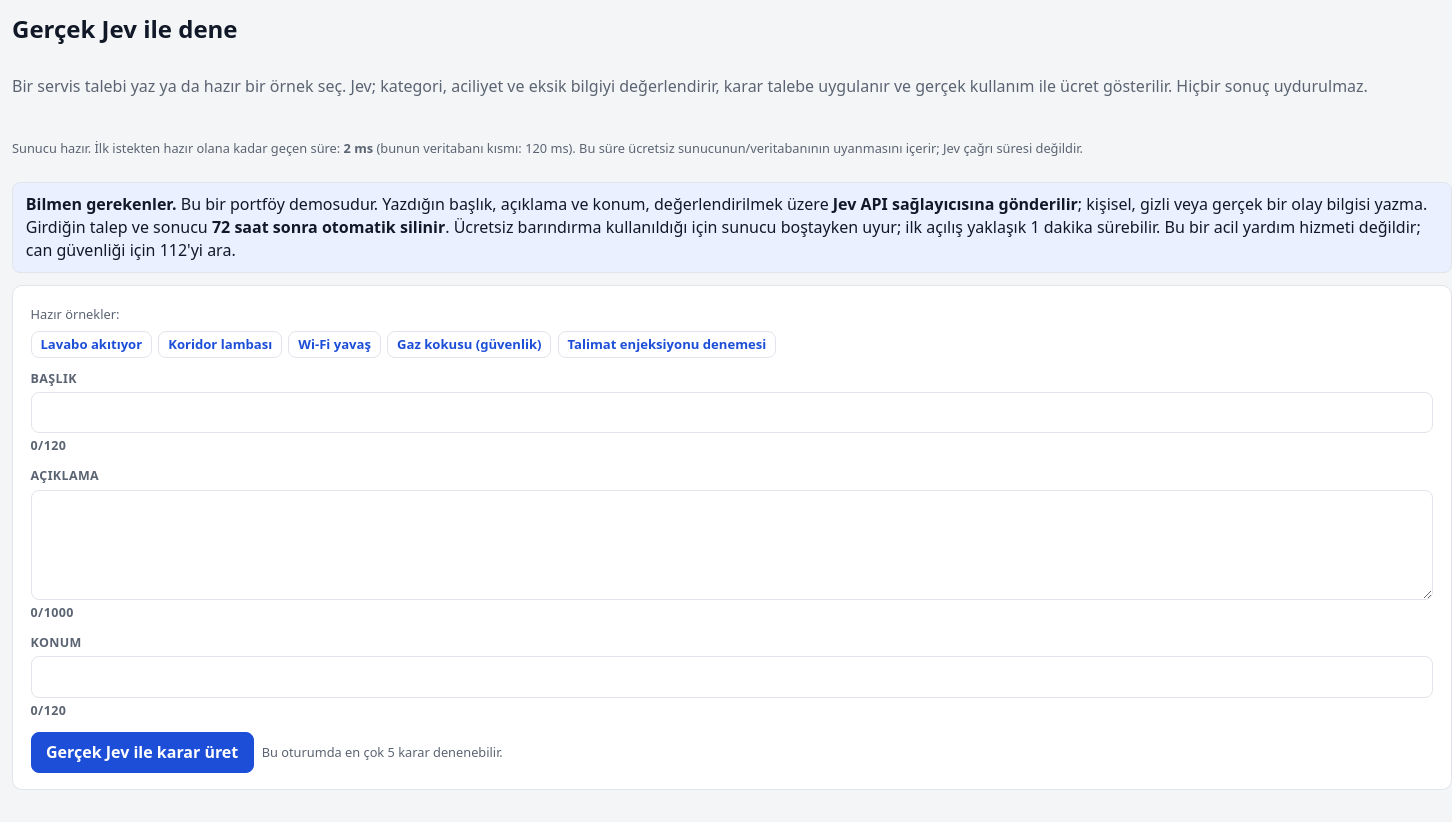
Test: DemoPage: form › hazır örnek alanları doldurur ve sayaçları gösterir
Expected: the element with test id "wake-summary" is shown, [12,139,1083,157]
Click the button "Koridor lambası" at {"x": 220, "y": 344}, box [158,331,282,358]
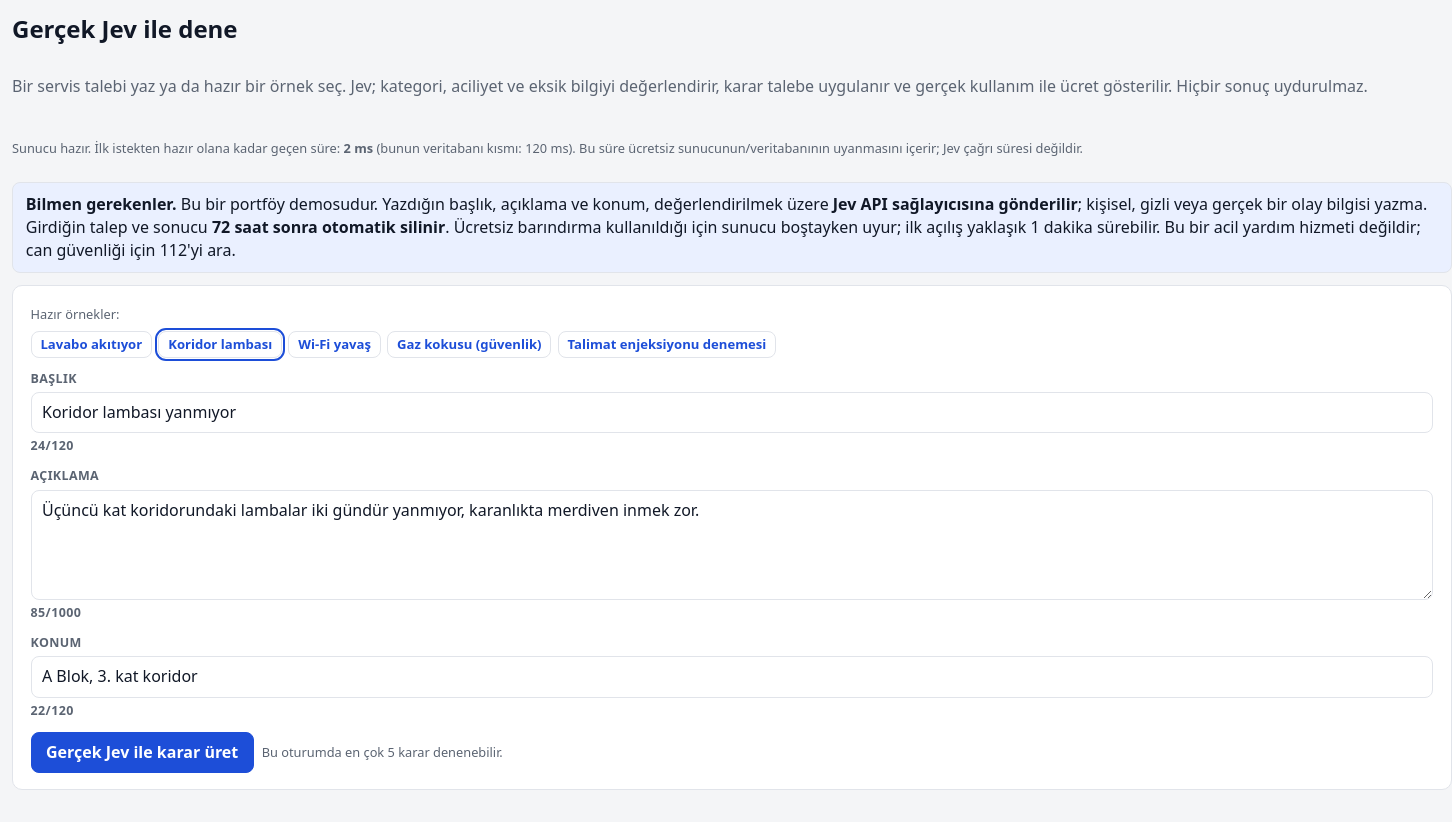
Result: the field labelled "Başlık 24/120" holds "Koridor lambası yanmıyor" at [31,392,1433,433]
Result: the field labelled "Konum 22/120" holds "A Blok, 3. kat koridor" at [31,656,1433,698]
Result: the label labelled "Başlık 24/120" is shown at [31,370,1433,456]
